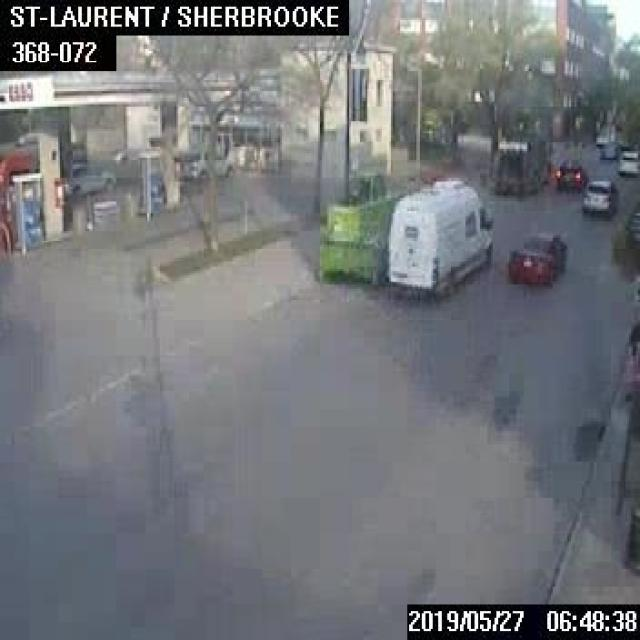vehicle: (389, 177, 491, 295), (315, 171, 412, 284), (493, 133, 554, 194), (504, 231, 567, 282), (174, 147, 231, 177), (68, 161, 114, 193), (581, 178, 616, 213), (555, 158, 586, 191), (594, 126, 623, 157), (619, 148, 638, 174)
